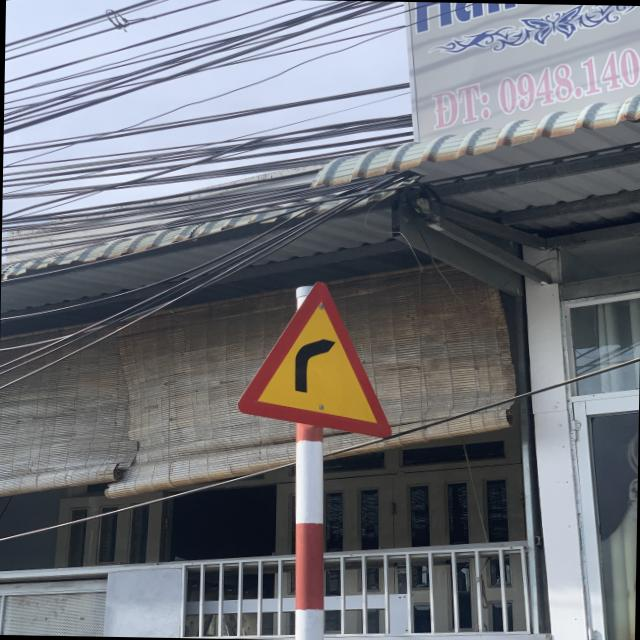Duong_Nguoi_Di_Bo_Cat_Ngang: (236, 280, 396, 438)
